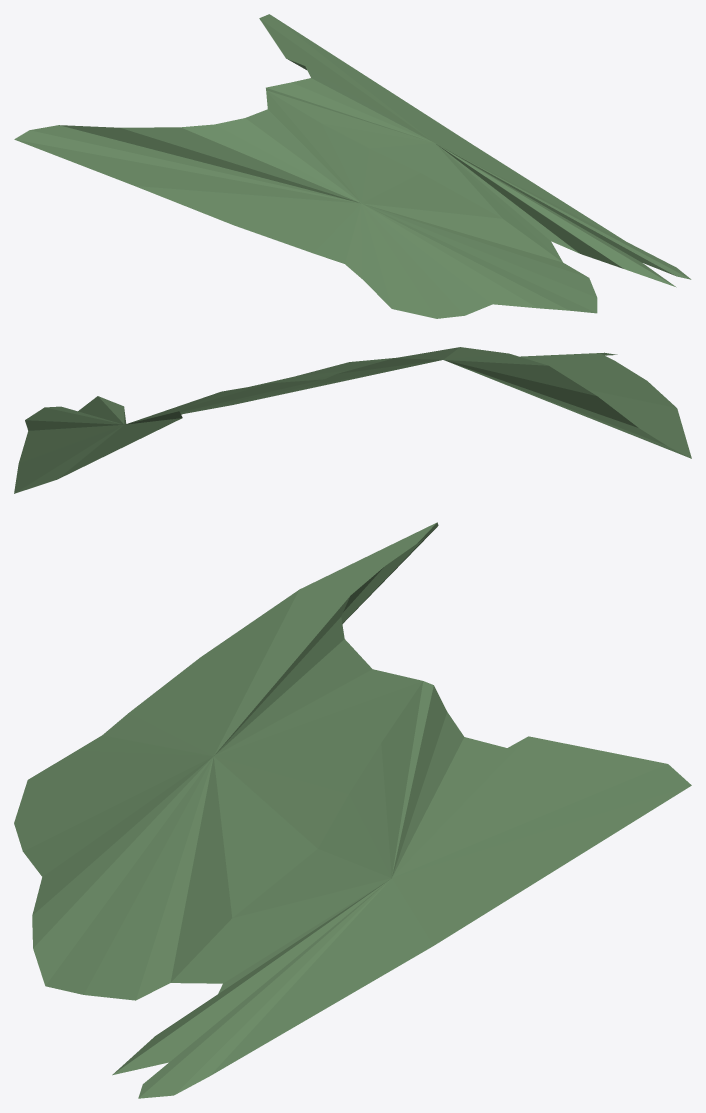
Rendered from c_1671_17821_forest.glb.
The picture shows the model from 3 angles, top to bottom: view 1: azimuth 30°, elevation 25°; view 2: azimuth 150°, elevation 25°; view 3: azimuth 270°, elevation 25°; orthographic projection. The views are drawn at different scales.
Parts seen in each view (by area): view 1: geometry_0; view 2: geometry_0; view 3: geometry_0.
Part boxes in pixels (x1,y1,x2,y2): geometry_0: (14, 14, 691, 318); geometry_0: (14, 347, 691, 493); geometry_0: (14, 522, 691, 1098).
Bounding box in the file's own units: 414 × 139 × 348.
